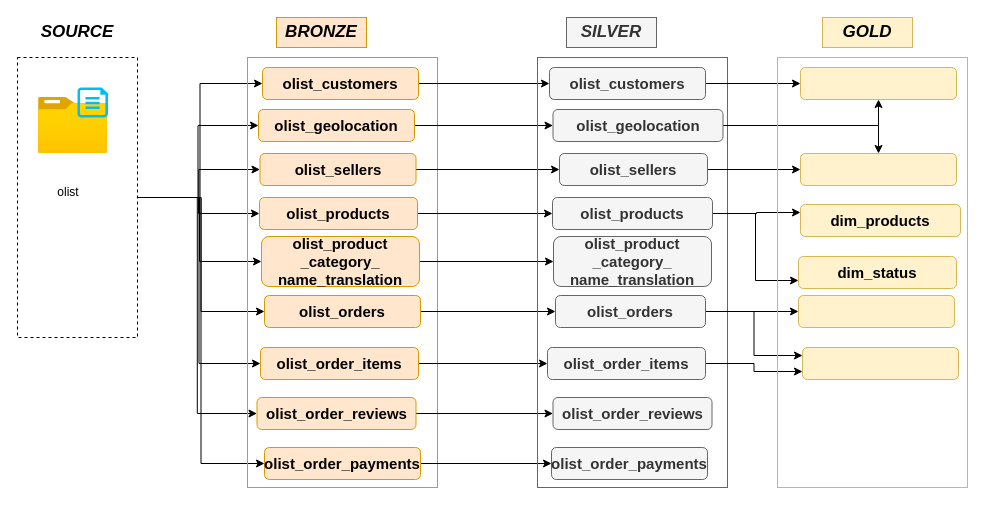
This 985x505 diagram has some shape labels left out. The centre of each missing label's shape, as x and y in pixels:
"dim_calendar" goes at pixel 876 311.
"dim_customers" goes at pixel 878 83.
"dim_sellers" goes at pixel 878 169.
"fact_sales" goes at pixel 880 363.
